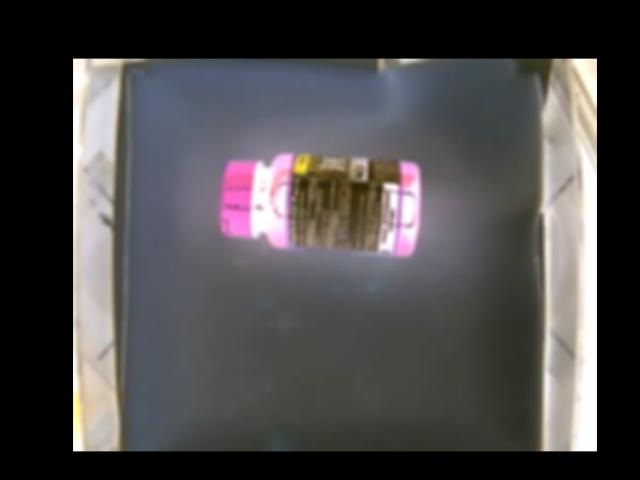Bottle: (224, 152, 423, 258)
